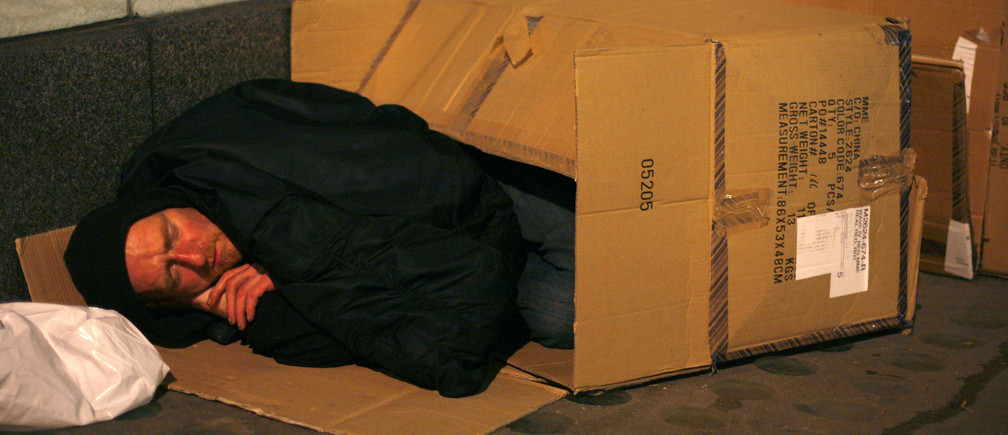box: (451, 1, 920, 391)
person: (68, 78, 574, 385)
